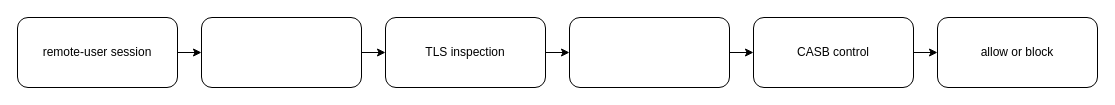
Image size: 1115x105. Some labels were removed from this diagram. Here are the shapes that lost their labels. From the top down, the centre of each, then its label:
At [281,52]: "SASE PoP".
At [649,52]: "SaaS classification".
